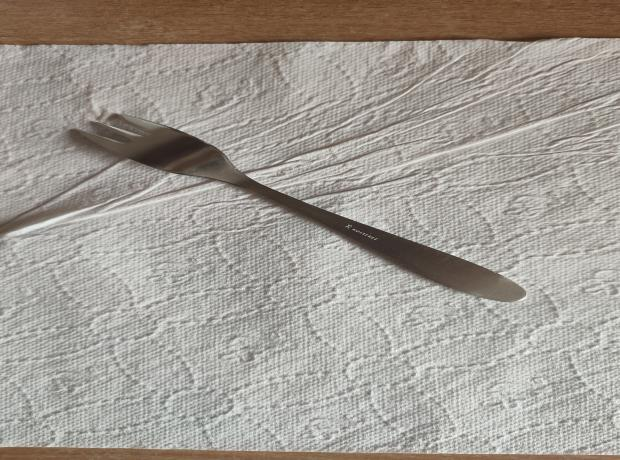metal: (63, 112, 529, 308)
